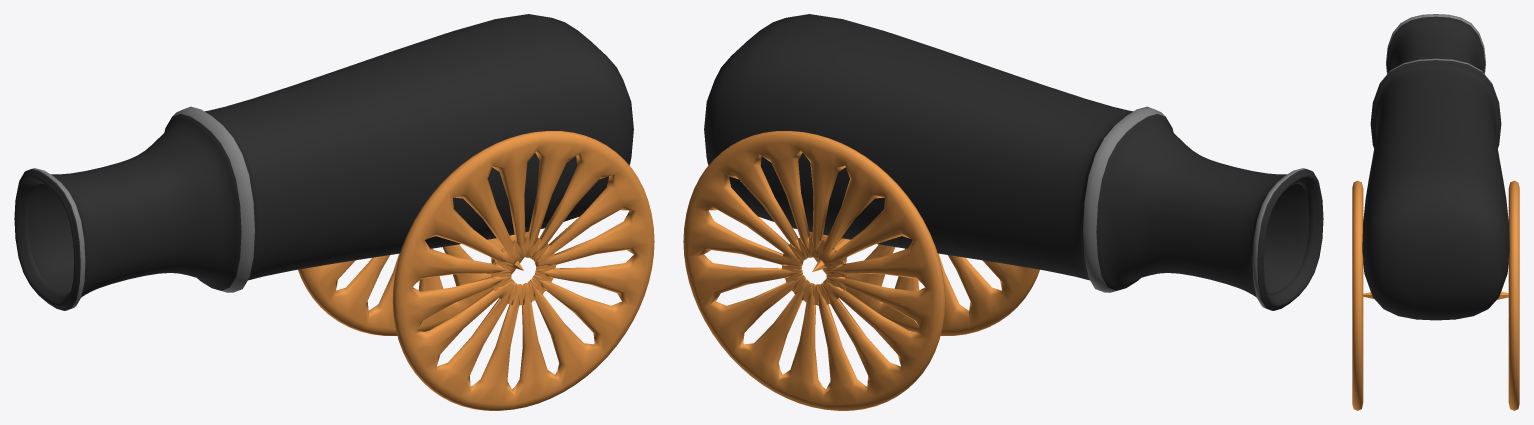
The model's file is CanonWithTexture.fbx.
3 views of the same model, side by side, from view 1: azimuth 30°, elevation 25°; view 2: azimuth 150°, elevation 25°; view 3: azimuth 270°, elevation 25° (orthographic). The views are drawn at different scales.
Visible parts, largest first — view 1: CanonEtRoueFusion; view 2: CanonEtRoueFusion; view 3: CanonEtRoueFusion.
Boxes of the visible parts, x1,y1,x2,y2 form: CanonEtRoueFusion: (14, 14, 654, 410); CanonEtRoueFusion: (683, 14, 1323, 410); CanonEtRoueFusion: (1352, 14, 1519, 410).
Size of the model in its own units: 388 by 217 by 131.
